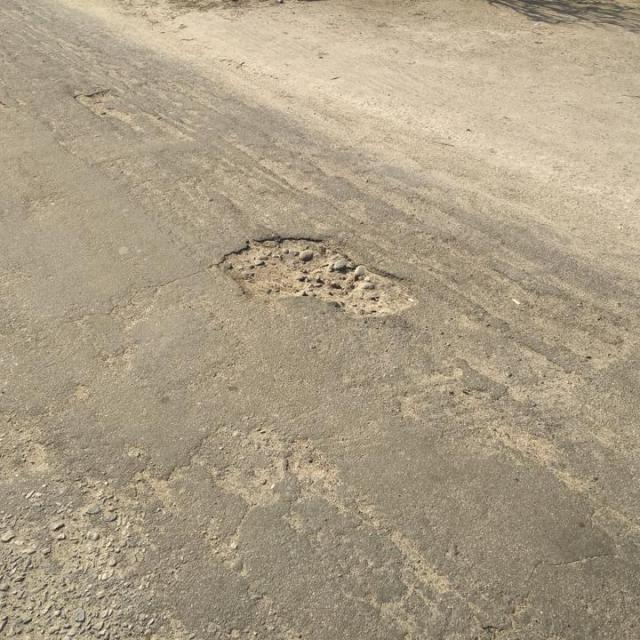medium_pothole: (215, 232, 422, 317)
minor_pothole: (69, 84, 129, 122)
